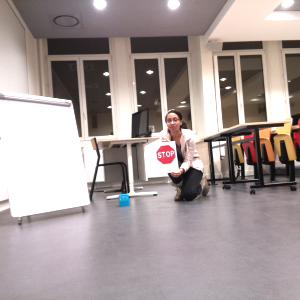stop: (157, 144, 176, 165)
